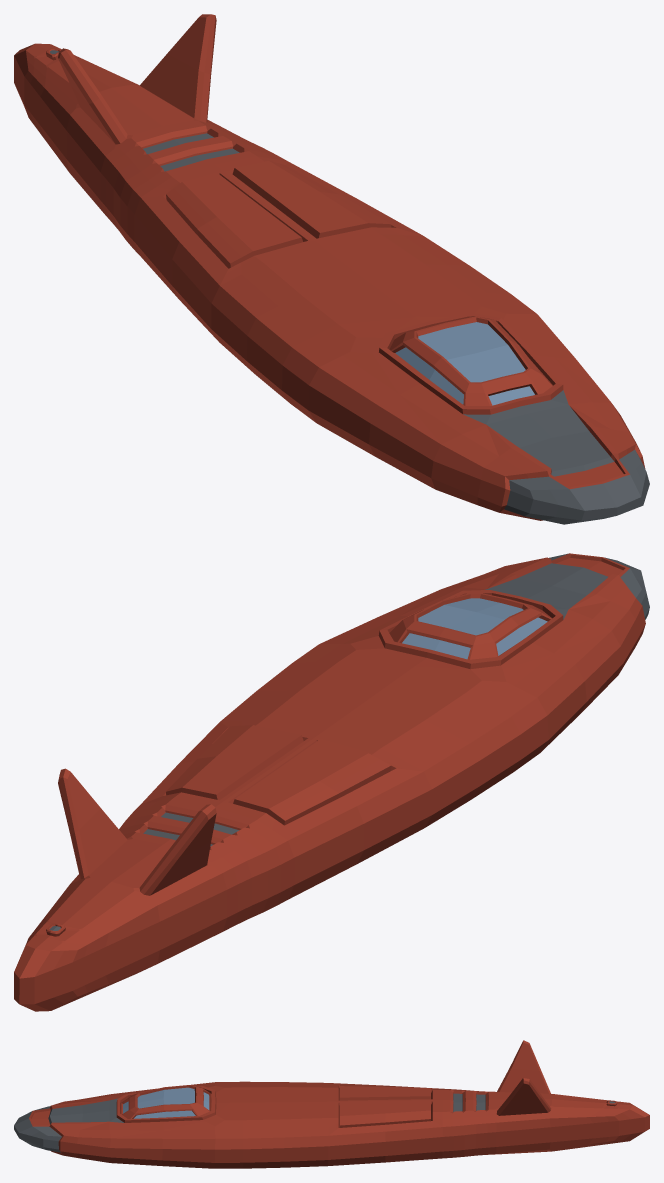
File: Fighter_02_Body_Red.fbx
The picture shows the model from 3 angles, top to bottom: view 1: azimuth 30°, elevation 25°; view 2: azimuth 150°, elevation 25°; view 3: azimuth 270°, elevation 25°; orthographic projection. The views are drawn at different scales.
Visible parts, largest first — view 1: Fighter_02_Body_Red; view 2: Fighter_02_Body_Red; view 3: Fighter_02_Body_Red.
Part boxes in pixels (<box>): Fighter_02_Body_Red: <box>14,14,649,524</box>; Fighter_02_Body_Red: <box>14,553,649,1011</box>; Fighter_02_Body_Red: <box>14,1040,649,1168</box>.
Size of the model in its own units: 300 by 198 by 1294.
Materials: 3 (3 with a texture image).
